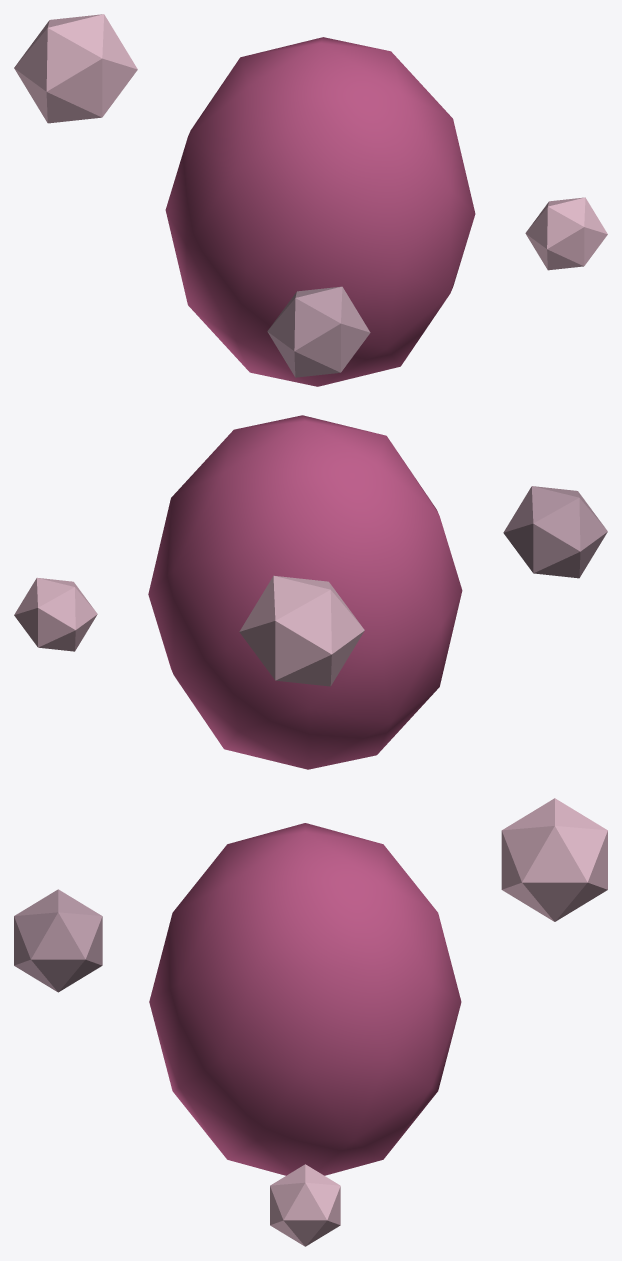
The model's file is landmark.glb.
3 renders of one model, top to bottom at view 1: azimuth 30°, elevation 25°; view 2: azimuth 150°, elevation 25°; view 3: azimuth 270°, elevation 25°, orthographic.
Parts seen in each view (by area): view 1: landmark_core_8, landmark_orbit_2, landmark_orbit_1, landmark_orbit_0; view 2: landmark_core_8, landmark_orbit_2, landmark_orbit_1, landmark_orbit_0; view 3: landmark_core_8, landmark_orbit_2, landmark_orbit_1, landmark_orbit_0.
Boxes of the visible parts, x1=… form: landmark_core_8: x1=165, y1=37, x2=475, y2=386; landmark_orbit_2: x1=14, y1=14, x2=137, y2=123; landmark_orbit_1: x1=267, y1=286, x2=370, y2=377; landmark_orbit_0: x1=525, y1=197, x2=607, y2=270; landmark_core_8: x1=148, y1=415, x2=462, y2=769; landmark_orbit_2: x1=239, y1=575, x2=364, y2=686; landmark_orbit_1: x1=503, y1=486, x2=607, y2=578; landmark_orbit_0: x1=14, y1=577, x2=97, y2=651; landmark_core_8: x1=149, y1=823, x2=461, y2=1175; landmark_orbit_2: x1=501, y1=798, x2=607, y2=921; landmark_orbit_1: x1=14, y1=889, x2=102, y2=992; landmark_orbit_0: x1=270, y1=1164, x2=340, y2=1246.
Size of what is drawn, in the model's own units: 3.96 by 2.88 by 4.57.
